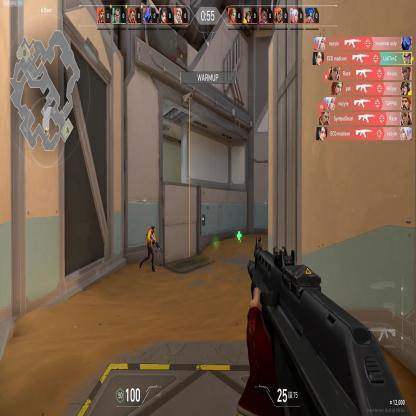enemy: (139, 221, 158, 272)
